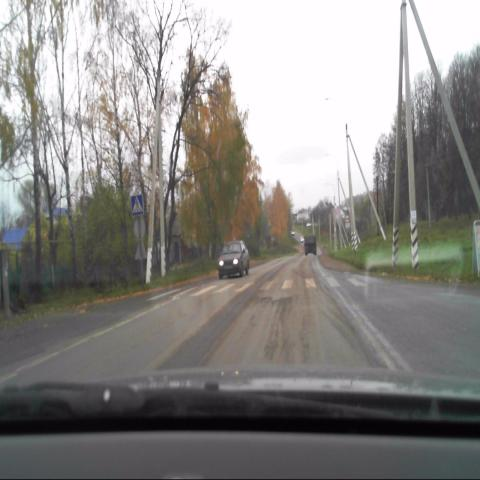5_19_1: (132, 192, 144, 215)
